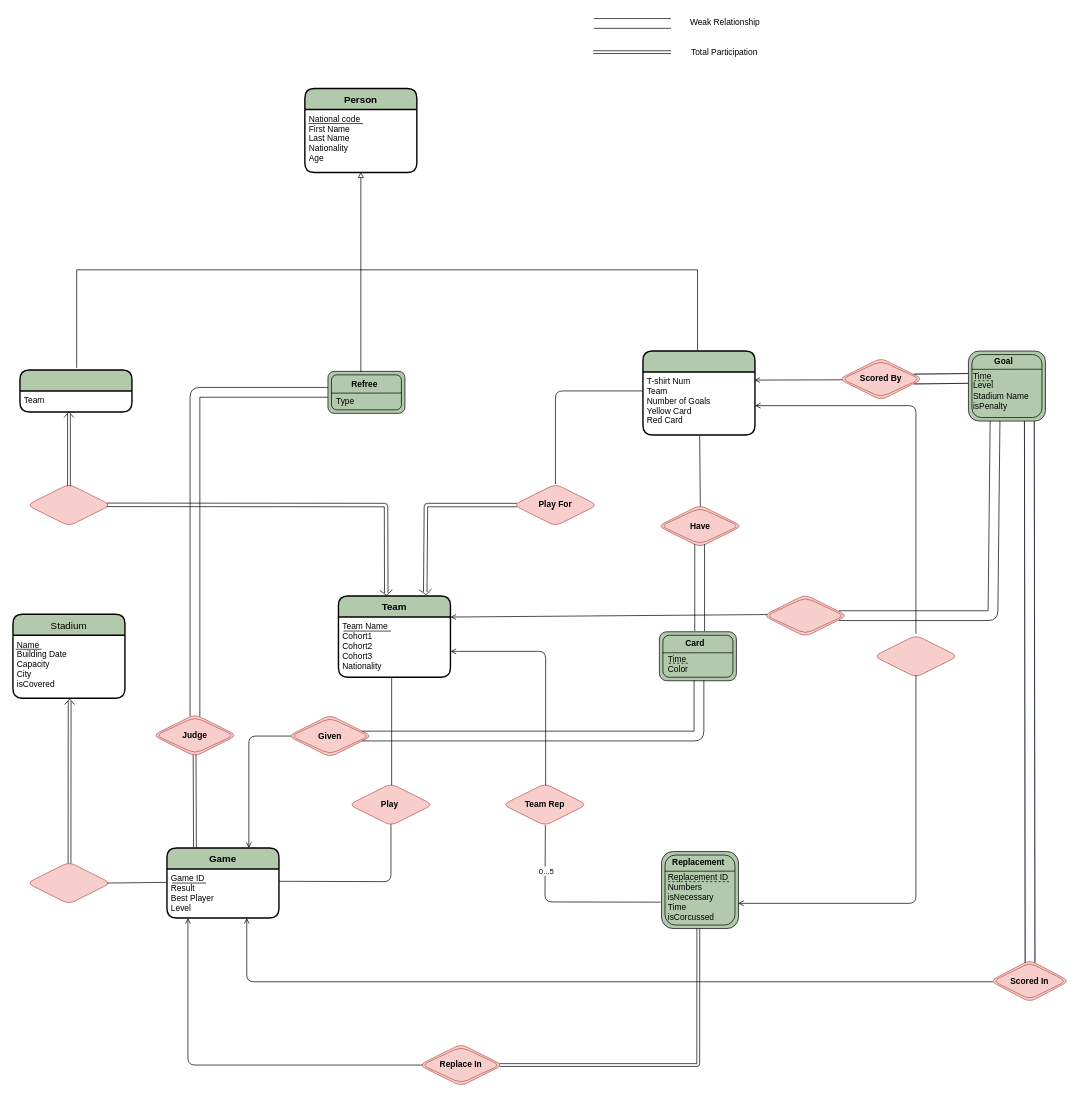
Image size: 1082x1098. Some labels were removed from this diagram. Each missing label, with the box of its shape:
Coach: (19, 369, 132, 412)
Get Score: (763, 594, 847, 637)
Leads: (26, 483, 111, 526)
Play In: (26, 861, 111, 904)
Player: (642, 350, 755, 435)
Player Rep: (873, 635, 958, 677)
